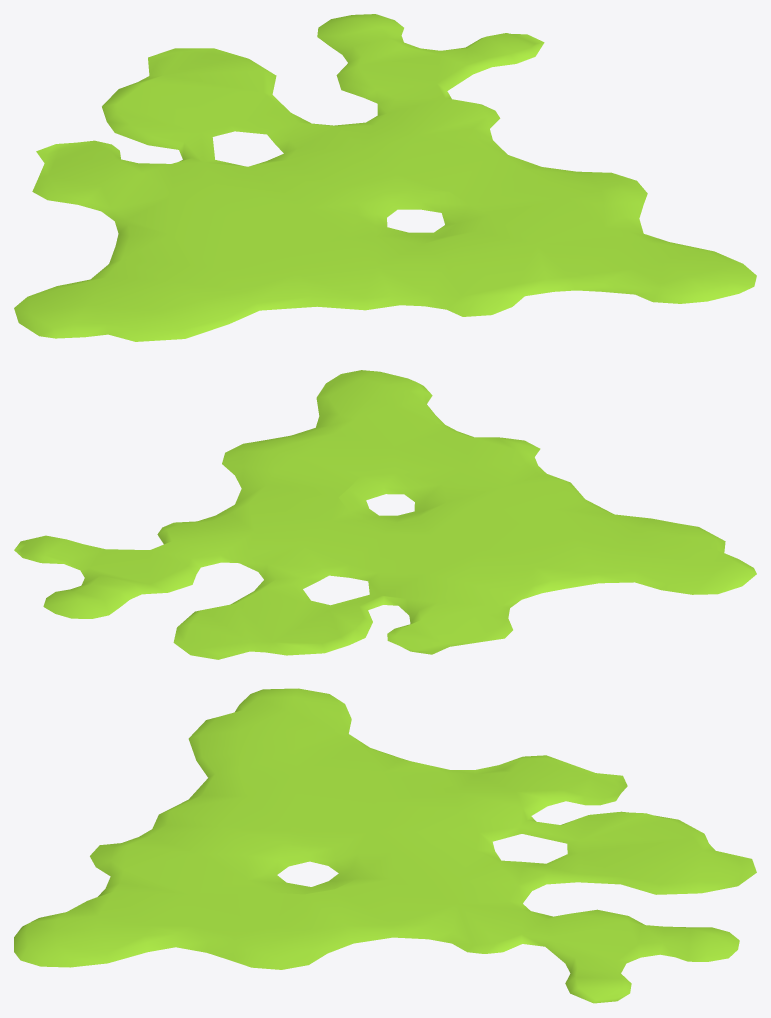
File: env_garbage_slimefloor01.fbx
3 views of the same model, one above another, from view 1: azimuth 30°, elevation 25°; view 2: azimuth 150°, elevation 25°; view 3: azimuth 270°, elevation 25° (orthographic). The views are drawn at different scales.
Visible parts, largest first — view 1: SlimeFloor01; view 2: SlimeFloor01; view 3: SlimeFloor01.
Part boxes in pixels (left/top/right/bottom): SlimeFloor01: left=14, top=14, right=756, bottom=341; SlimeFloor01: left=14, top=370, right=756, bottom=659; SlimeFloor01: left=14, top=688, right=756, bottom=1003.
Bounding box in the file's own units: 52.7 × 0.8628 × 52.54.
